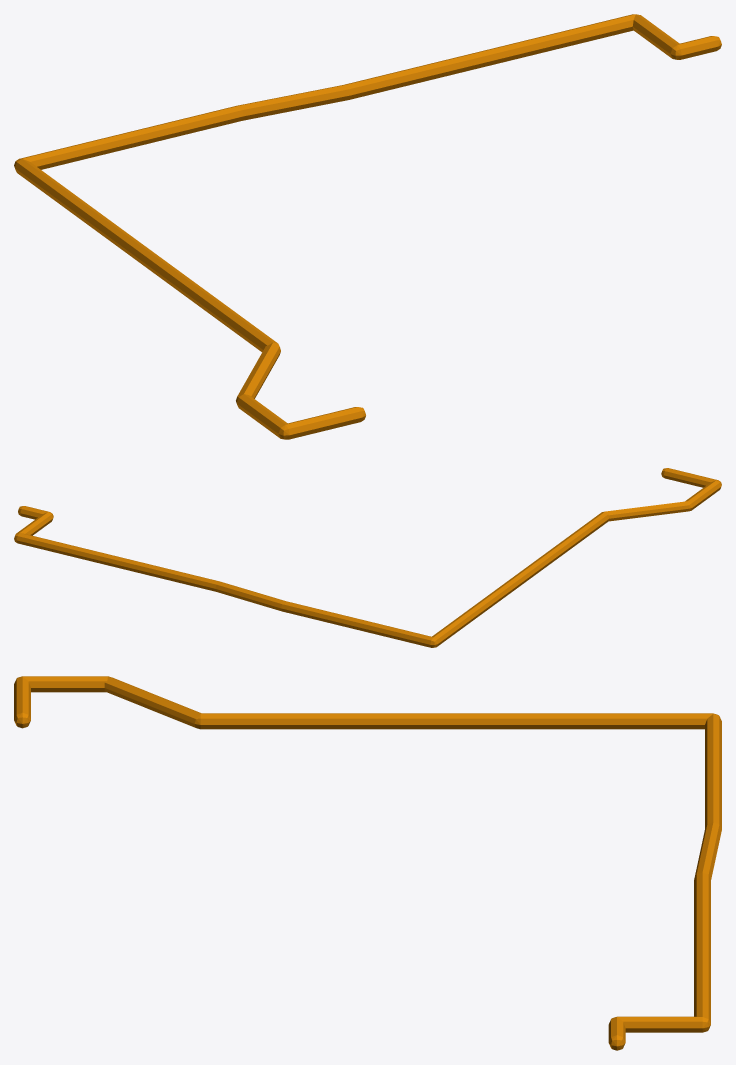
3 renders of one model, top to bottom at view 1: azimuth 30°, elevation 25°; view 2: azimuth 150°, elevation 25°; view 3: azimuth 270°, elevation 25°, orthographic. The views are drawn at different scales.
Size of the model in its own units: 1013 by 20 by 829.
